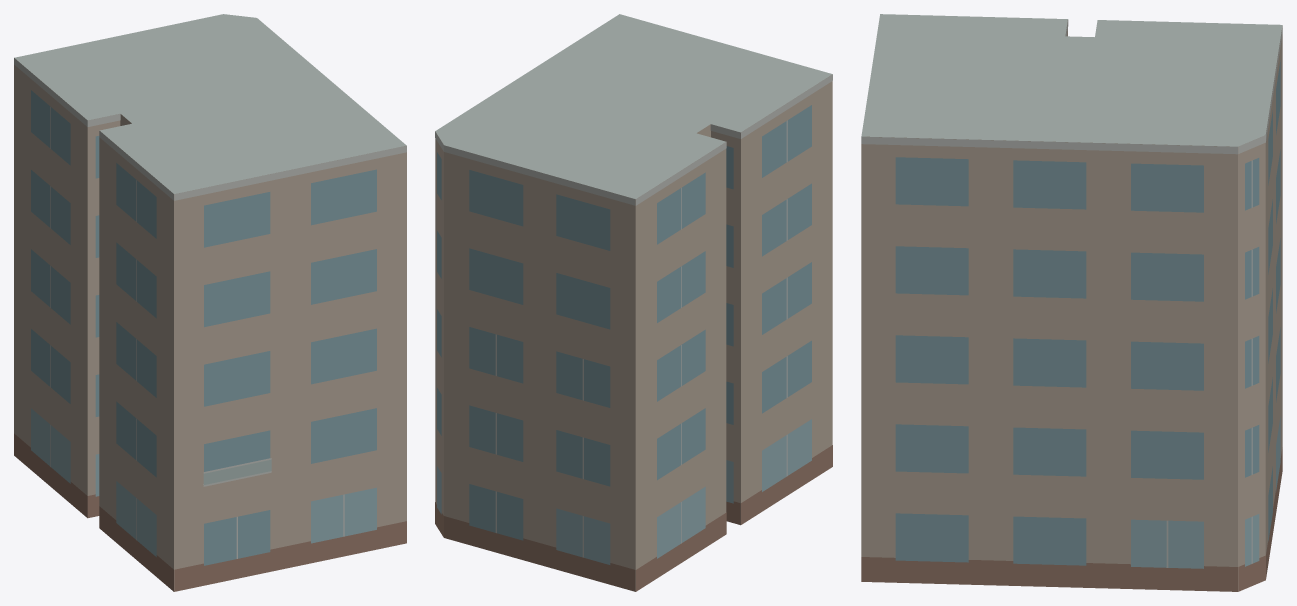
File: survey-upis-32676366.glb
3 views of the same model, side by side, from view 1: azimuth 30°, elevation 25°; view 2: azimuth 150°, elevation 25°; view 3: azimuth 270°, elevation 25° (orthographic). The views are drawn at different scales.
Visible parts, largest first — view 1: survey-upis-32676366.tmp; view 2: survey-upis-32676366.tmp; view 3: survey-upis-32676366.tmp.
Part boxes in pixels (box(x1,y1,x2,y2)): survey-upis-32676366.tmp: box(14, 14, 406, 591); survey-upis-32676366.tmp: box(435, 14, 832, 591); survey-upis-32676366.tmp: box(861, 14, 1282, 591).
Bounding box in the file's own units: 9.21 × 14.4 × 12.36.
